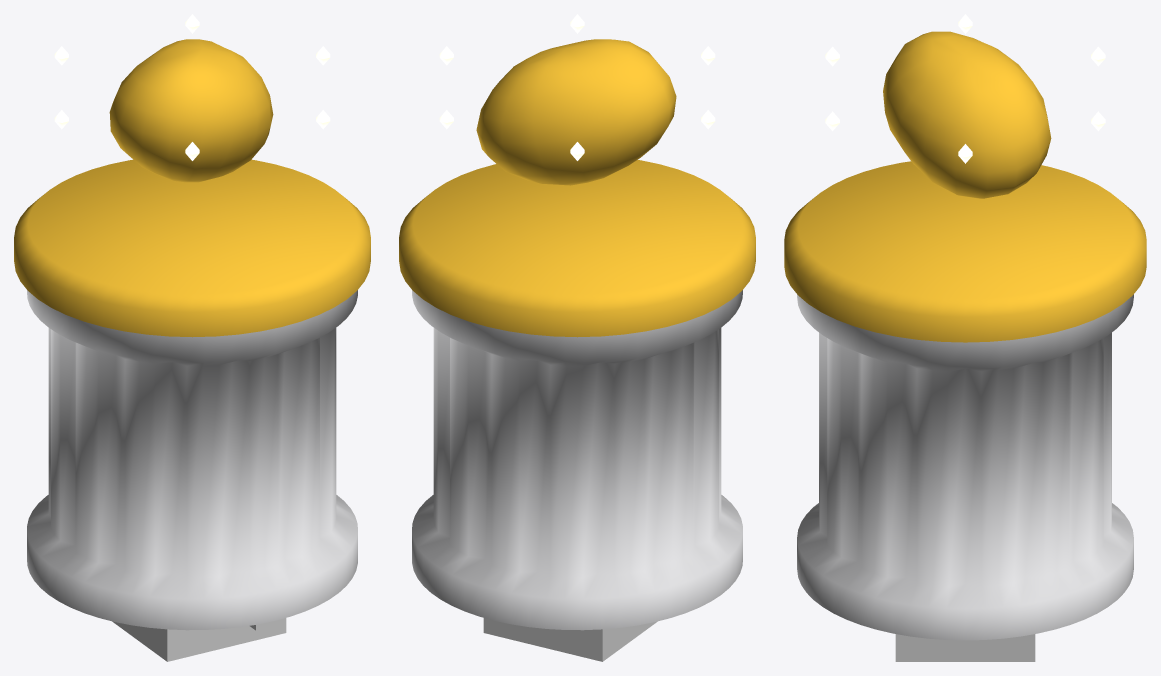
Rendered from GoldenPedestal.fbx.
The picture shows the model from 3 angles, left to right: view 1: azimuth 30°, elevation 25°; view 2: azimuth 150°, elevation 25°; view 3: azimuth 270°, elevation 25°; orthographic projection.
Visible parts, largest first — view 1: Body__Marble, Body__Gold, Tuber__Gold, Origin__Pivot, Body__NeonYellow; view 2: Body__Marble, Body__Gold, Tuber__Gold, Origin__Pivot, Body__NeonYellow; view 3: Body__Marble, Body__Gold, Tuber__Gold, Origin__Pivot, Body__NeonYellow.
Boxes of the visible parts, left/top/right/bottom form: Body__Marble: left=27, top=290, right=357, bottom=630; Body__Gold: left=14, top=159, right=370, bottom=337; Tuber__Gold: left=109, top=39, right=273, bottom=182; Origin__Pivot: left=112, top=618, right=286, bottom=661; Body__NeonYellow: left=54, top=14, right=330, bottom=160; Body__Marble: left=412, top=290, right=742, bottom=630; Body__Gold: left=399, top=160, right=755, bottom=337; Tuber__Gold: left=476, top=39, right=676, bottom=185; Origin__Pivot: left=483, top=618, right=657, bottom=661; Body__NeonYellow: left=439, top=14, right=715, bottom=160; Body__Marble: left=797, top=294, right=1133, bottom=640; Body__Gold: left=784, top=161, right=1146, bottom=342; Tuber__Gold: left=883, top=31, right=1051, bottom=198; Origin__Pivot: left=895, top=634, right=1035, bottom=661; Body__NeonYellow: left=825, top=14, right=1105, bottom=163.
Bounding box in the file's own units: 2.6 × 4.63 × 2.6.
